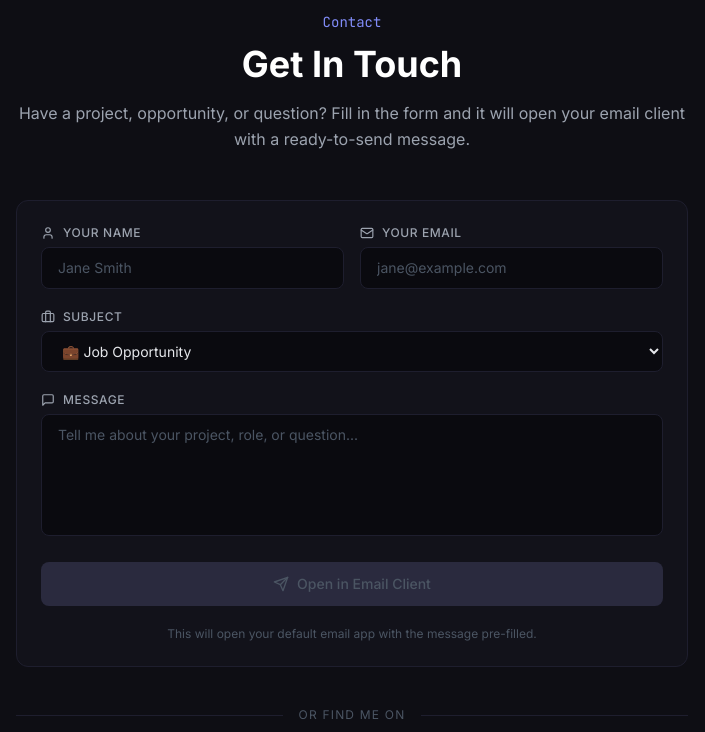
Test: Contact › submit button enables when form is filled
In the field labelled "Your Name": {"x": 192, "y": 268} x1=41 y1=247 x2=344 y2=289, type "Jane"
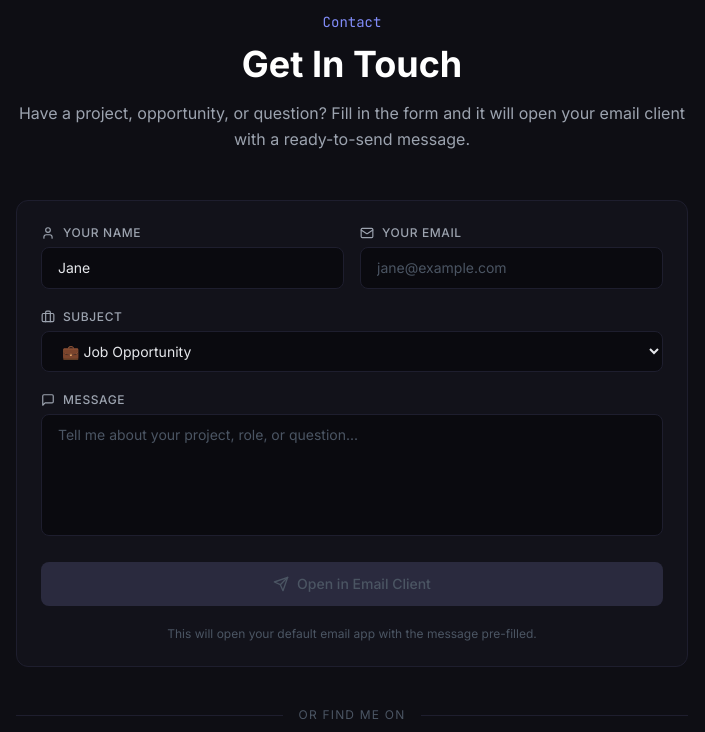
In the field labelled "Your Email": {"x": 512, "y": 268} x1=360 y1=247 x2=663 y2=289, type "jane@test.com"
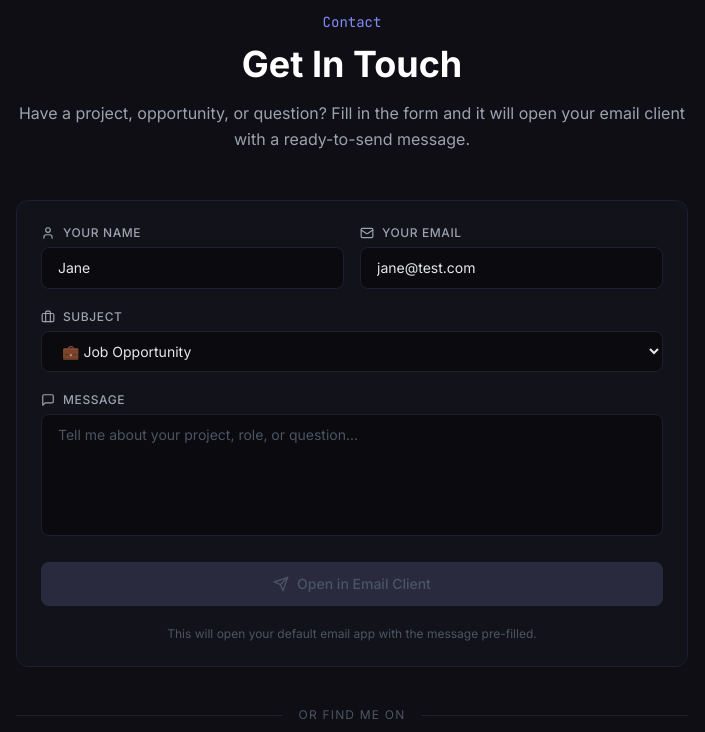
In the text box labelled "Message": {"x": 352, "y": 475} x1=41 y1=414 x2=663 y2=536, type "Hello!"
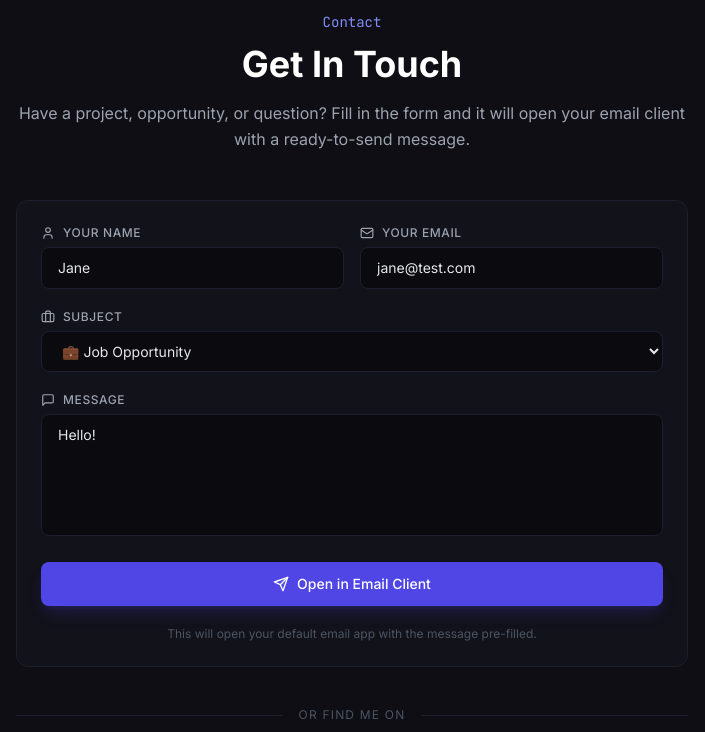
Now the button "Open in Email Client" is enabled, box x1=41 y1=562 x2=663 y2=606
